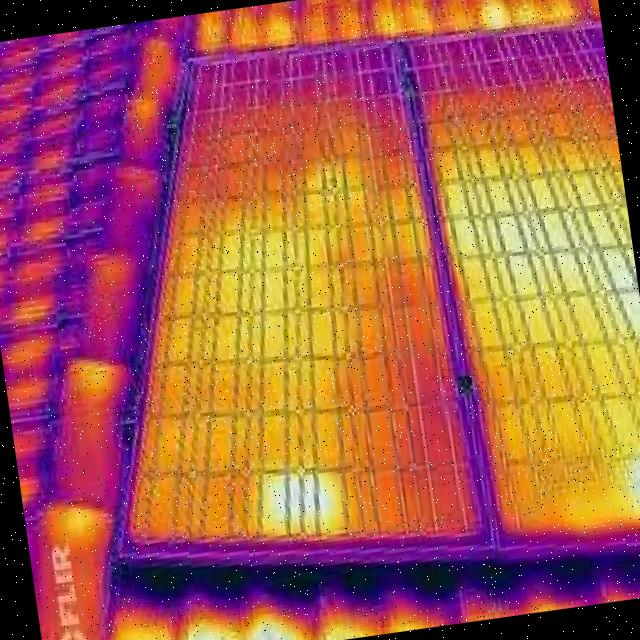Hotspot: (236, 444, 364, 556), (604, 434, 640, 530)
